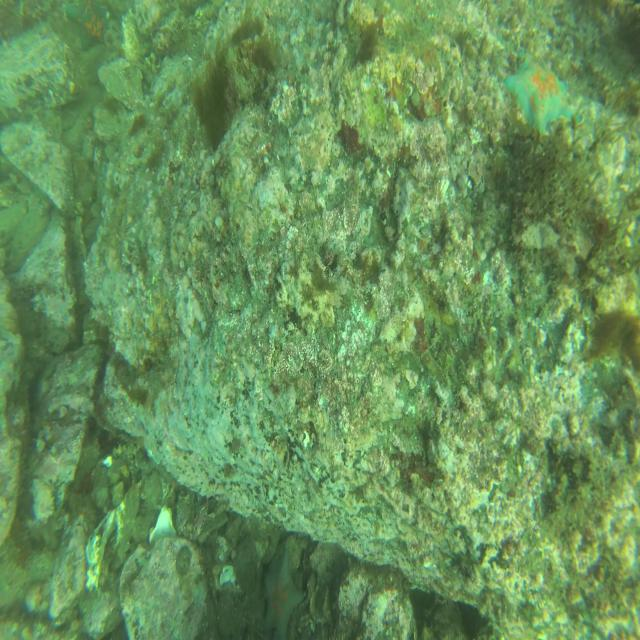starfish: (509, 47, 581, 138), (260, 545, 306, 639), (67, 0, 109, 49)
